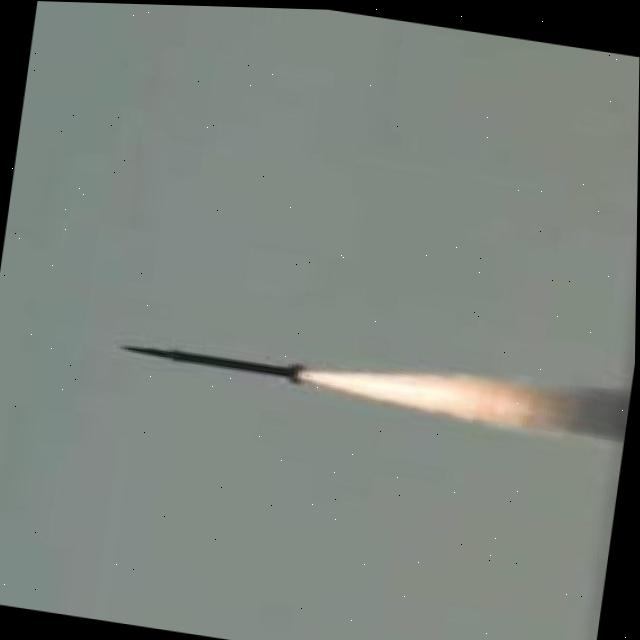missile: (115, 328, 313, 390)
